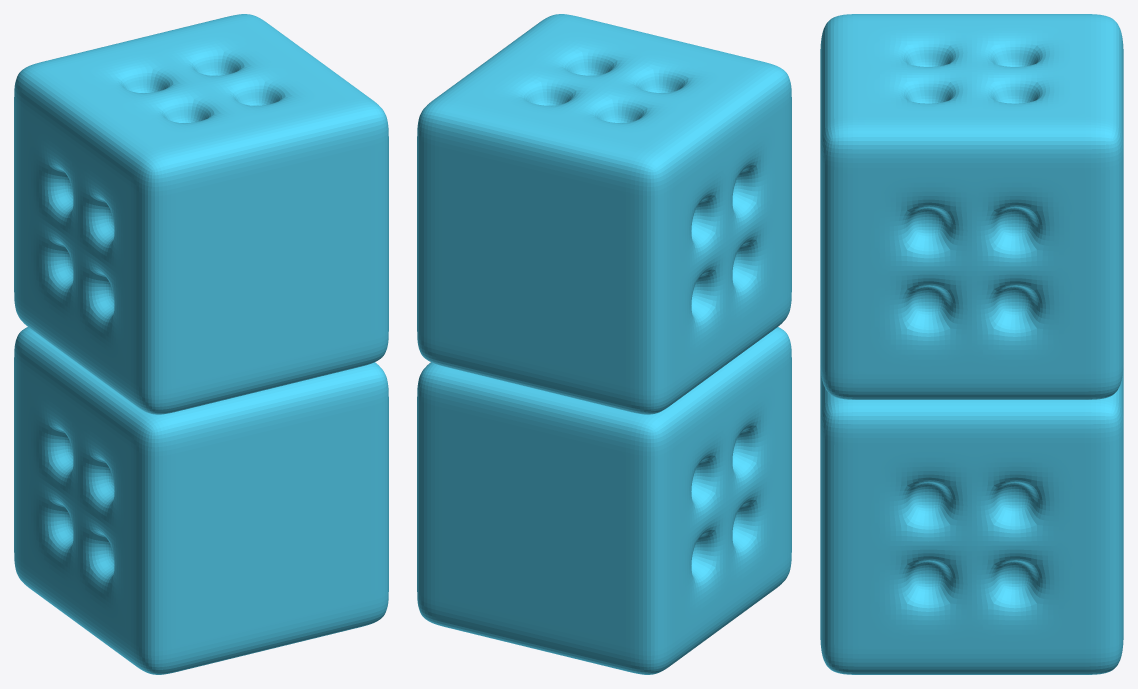
File: t_blue_1.1.2.fbx
3 views of the same model, side by side, from view 1: azimuth 30°, elevation 25°; view 2: azimuth 150°, elevation 25°; view 3: azimuth 270°, elevation 25° (orthographic). The views are drawn at different scales.
Parts seen in each view (by area): view 1: Cube.003; view 2: Cube.003; view 3: Cube.003.
Part boxes in pixels (<box>): Cube.003: <box>14,14,388,674</box>; Cube.003: <box>417,14,791,674</box>; Cube.003: <box>820,14,1123,674</box>.
Size of the model in its own units: 100 by 200 by 100.
